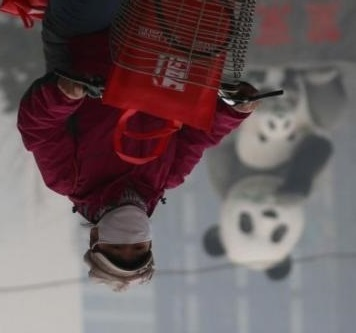person: (24, 72, 224, 294)
